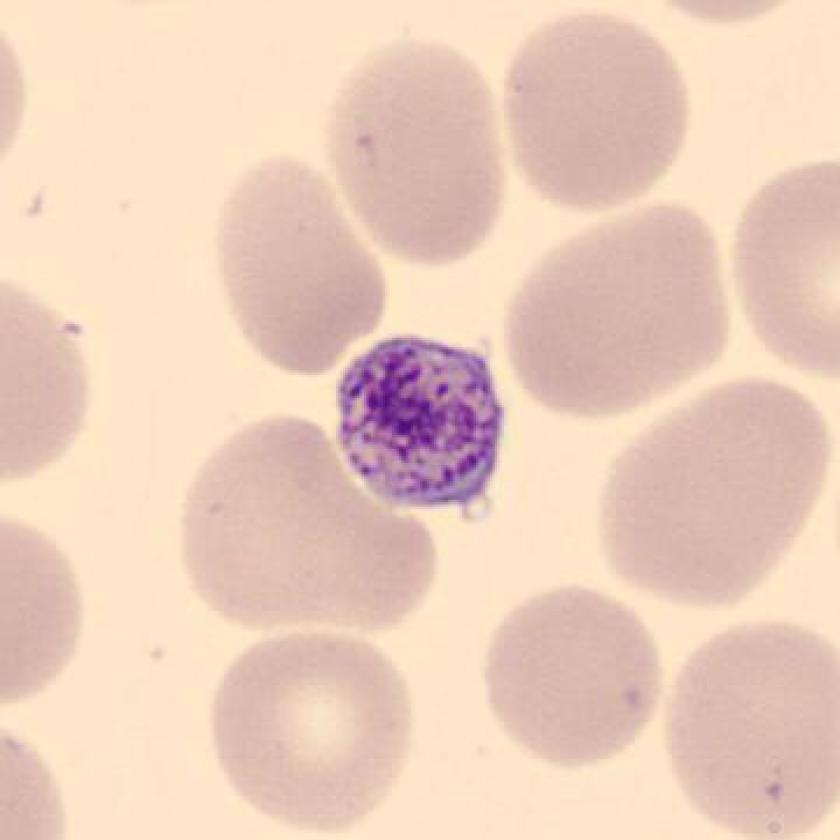platelets: (328, 335, 510, 520)
